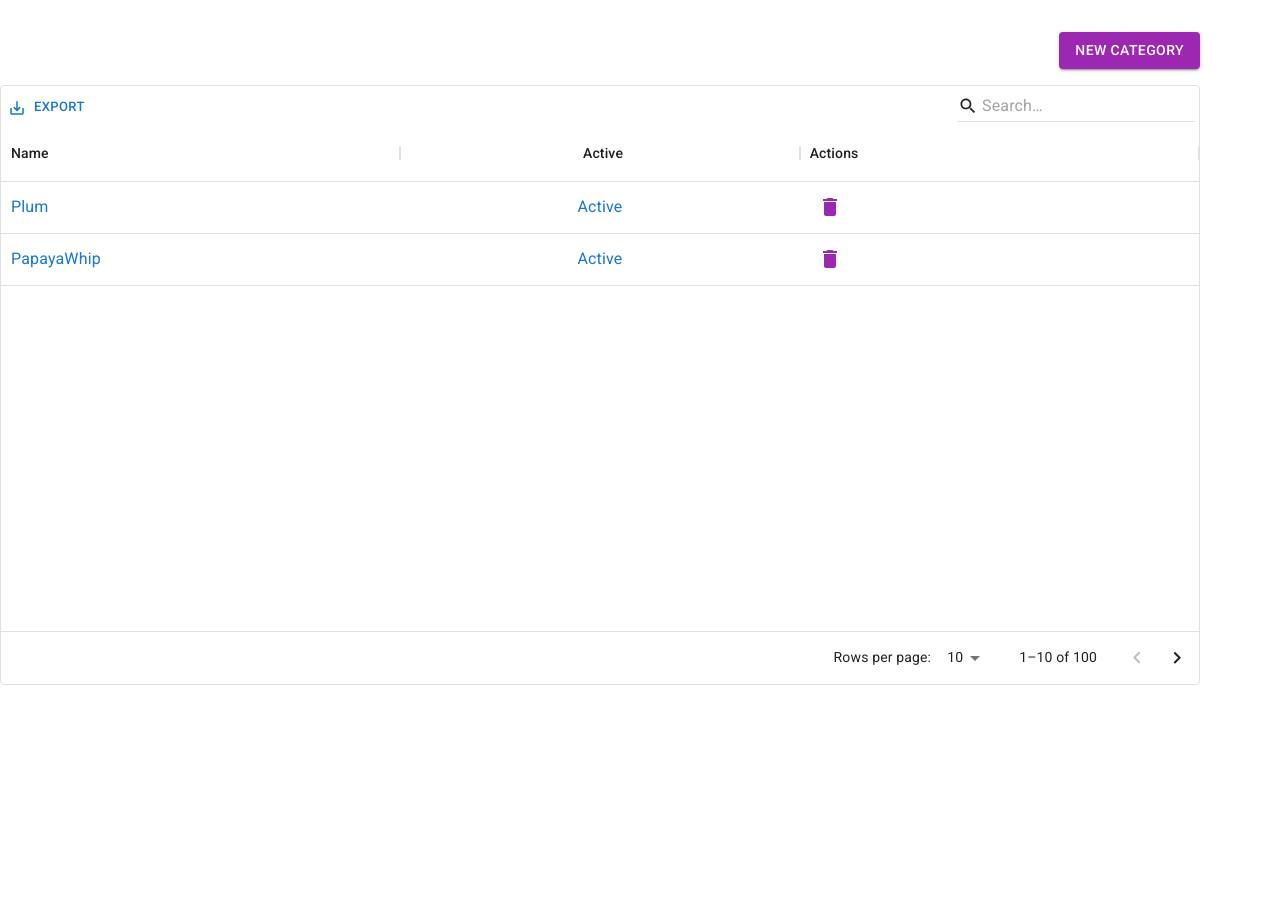
it: ListCategory › should handle on page change
Expected: the text "Plum" is shown, 11,195 -> 48,219
Click the button with test id "KeyboardArrowRightIcon": x=1177, y=658 1157,638 -> 1197,678
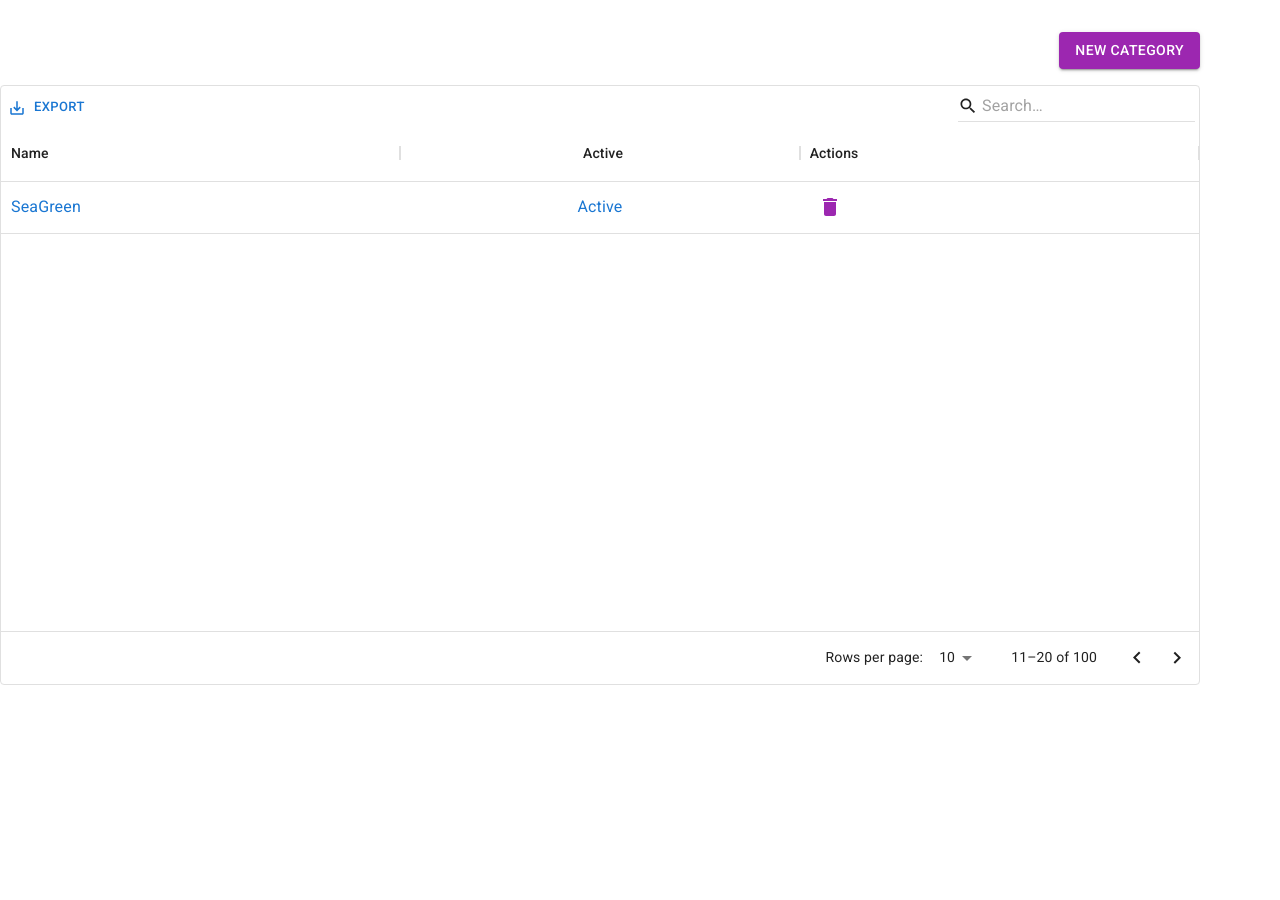
Now the text "SeaGreen" is shown, box 11,195 -> 81,219
